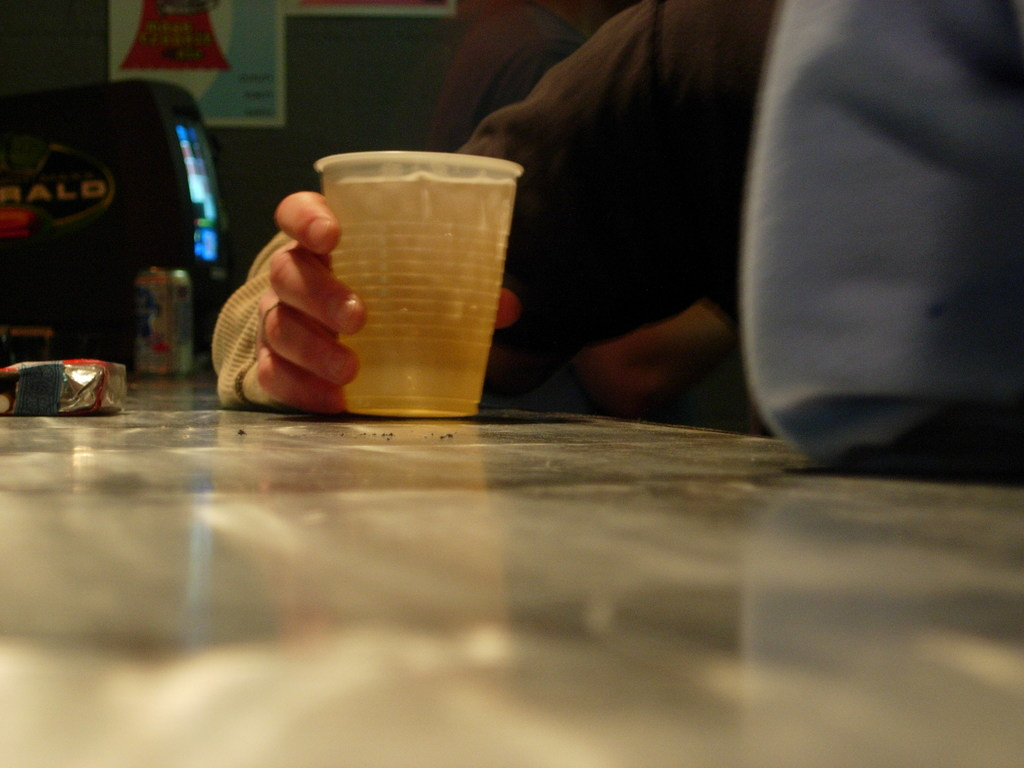Beer: (312, 140, 524, 446)
